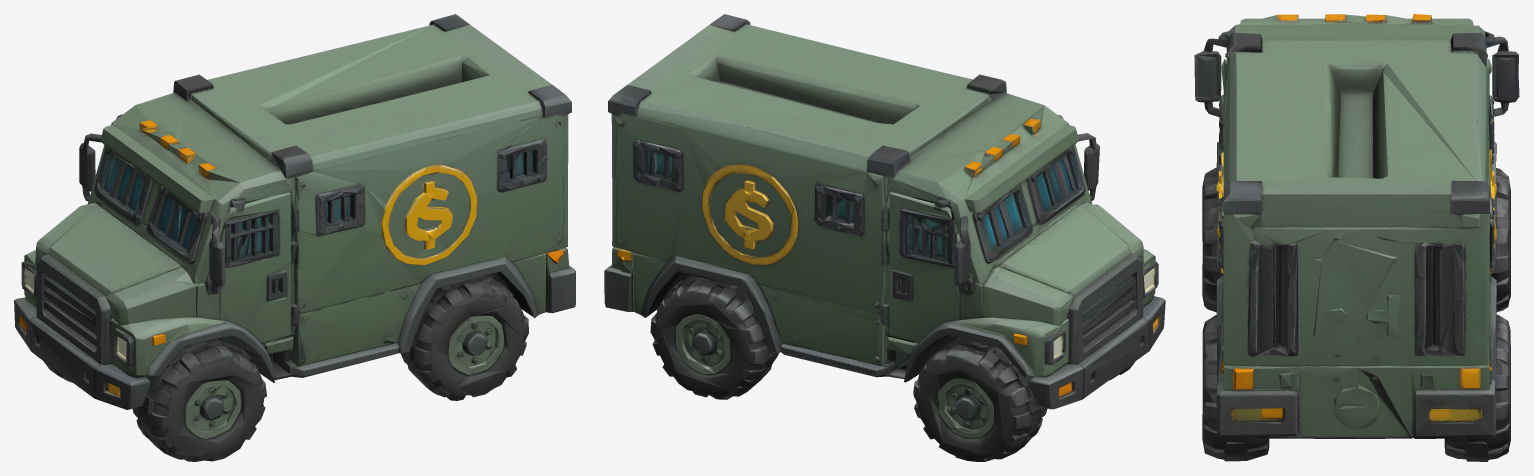
Rendered from bank_truck.glb.
The picture shows the model from 3 angles, left to right: view 1: azimuth 30°, elevation 25°; view 2: azimuth 150°, elevation 25°; view 3: azimuth 270°, elevation 25°; orthographic projection. The views are drawn at different scales.
Bounding box in the file's own units: 1.9 × 1.09 × 1.02.
Materials: 1 (1 with a texture image).
